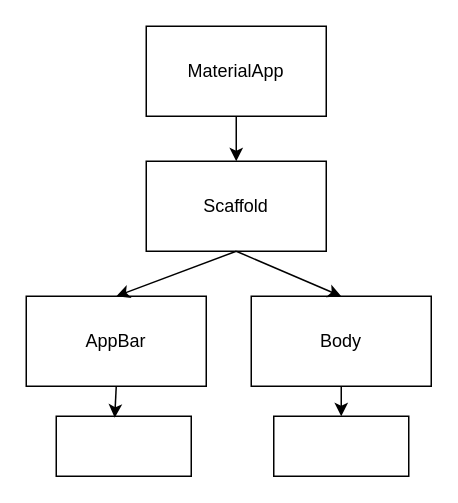
Some shapes in this 458 by 503 pixel diagram are drawn without their labels. Here are the shapes that lost their labels. From the top down, the centre of each, then its label:
At point (123, 445): "title:Text()".
At point (340, 445): "child:Text()".
